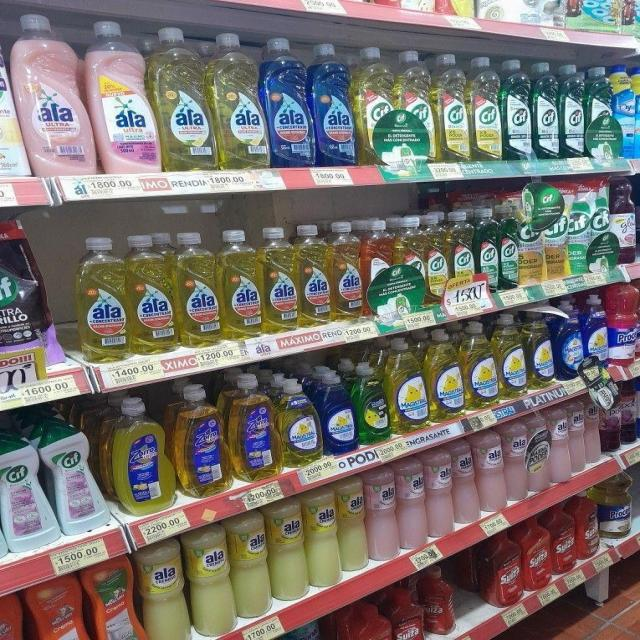ala_conc_amarillo: (157, 26, 214, 172), (215, 31, 265, 170), (74, 235, 128, 361), (129, 232, 175, 354), (176, 231, 220, 347), (222, 228, 262, 339), (263, 225, 298, 333), (298, 224, 330, 326), (331, 220, 363, 321)
ala_conc_azul: (266, 35, 312, 168), (313, 40, 356, 166), (0, 10, 11, 135)
ala_conc_rojo: (16, 12, 88, 180), (363, 218, 392, 318)
ala_crem_amarillo: (188, 525, 231, 638), (140, 539, 186, 640), (231, 511, 268, 620), (270, 497, 306, 602), (306, 486, 338, 588), (338, 475, 366, 573)
ala_crem_rosado: (367, 466, 398, 562), (398, 455, 426, 551), (426, 446, 453, 540), (477, 428, 504, 514), (453, 437, 477, 526), (505, 418, 527, 502), (527, 410, 549, 494), (550, 403, 570, 484), (570, 396, 586, 474), (586, 394, 600, 466)
ala_ultra_rosa: (91, 19, 156, 175)
cif_conc_bot_amarilla: (356, 45, 395, 165), (396, 50, 433, 163), (435, 52, 469, 163), (471, 55, 502, 162), (394, 214, 425, 314), (450, 208, 474, 304), (426, 212, 447, 306)
cif_conc_botella_verde: (502, 58, 532, 161), (533, 60, 559, 160), (560, 63, 584, 158), (476, 206, 498, 292), (498, 206, 518, 290)
cif_conc_sachet_amarillo: (543, 179, 566, 280), (519, 202, 543, 284)
cif_conc_sachet_verde: (568, 178, 590, 275)
magistral_con_amarillo: (278, 376, 320, 467), (390, 337, 427, 433), (428, 328, 463, 421), (464, 320, 496, 409), (497, 314, 526, 399), (527, 310, 554, 390)
magistral_con_azul: (322, 368, 356, 456), (556, 307, 582, 380), (583, 294, 608, 368)
zorro: (109, 395, 172, 515), (174, 382, 227, 498), (230, 373, 276, 482)
